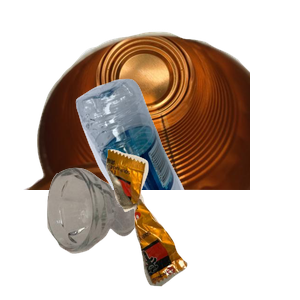glass: (44, 165, 178, 300)
metal: (21, 29, 261, 209)
plastic: (73, 76, 300, 256)
trash: (103, 147, 300, 300)
